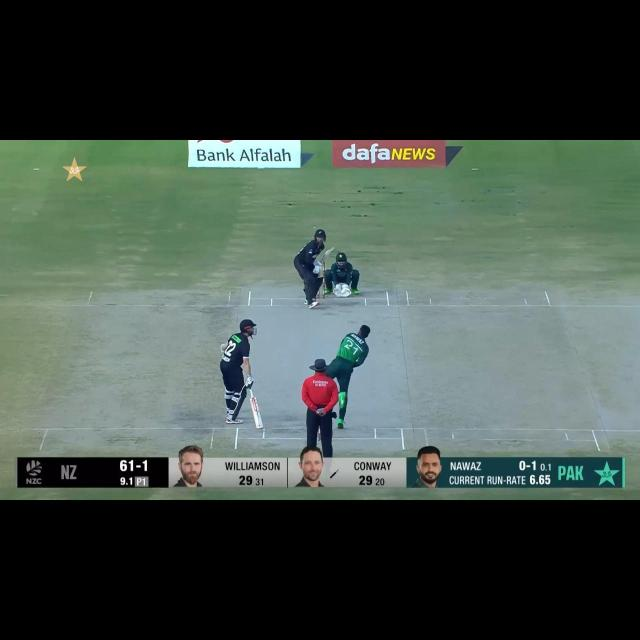bat: (248, 397, 265, 433), (316, 247, 334, 268)
toe: (254, 419, 264, 432), (328, 246, 336, 254)
